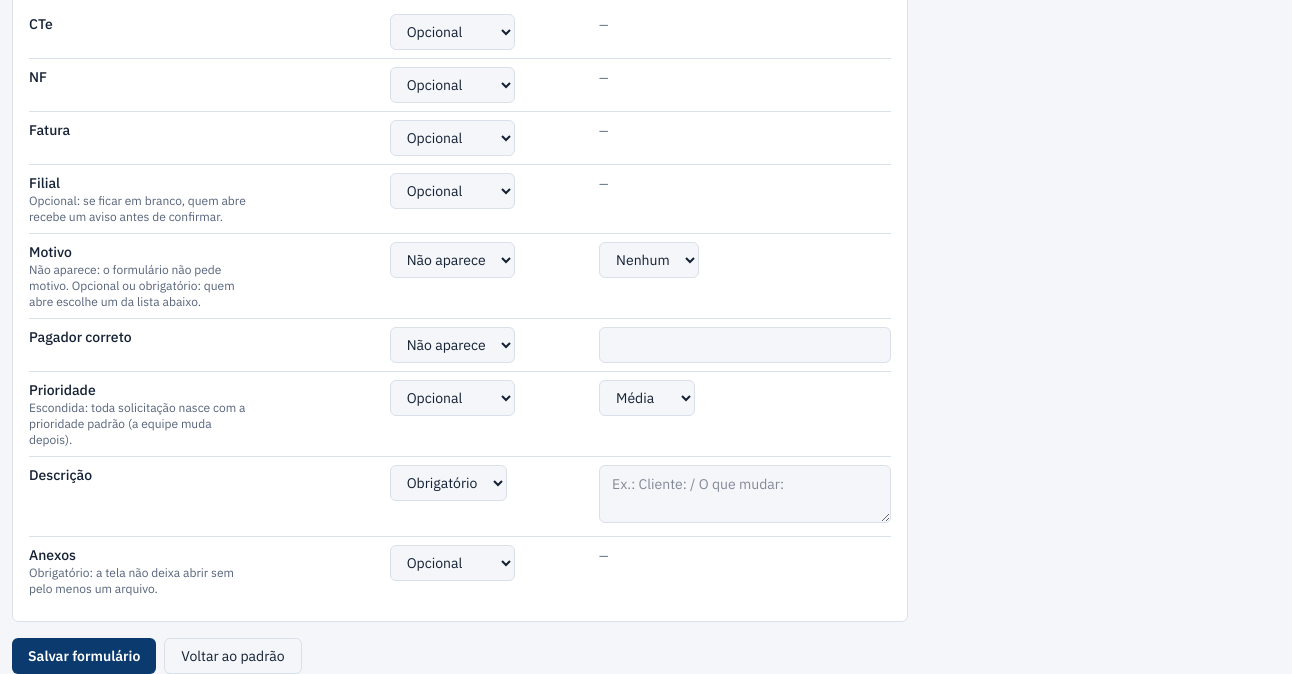
Test: Formulário › mostra o erro de quando a API recusa
(page scrolled)
Click the button "Salvar formulário". click: (84, 656)
box: [12, 638, 156, 673]
(page scrolled)
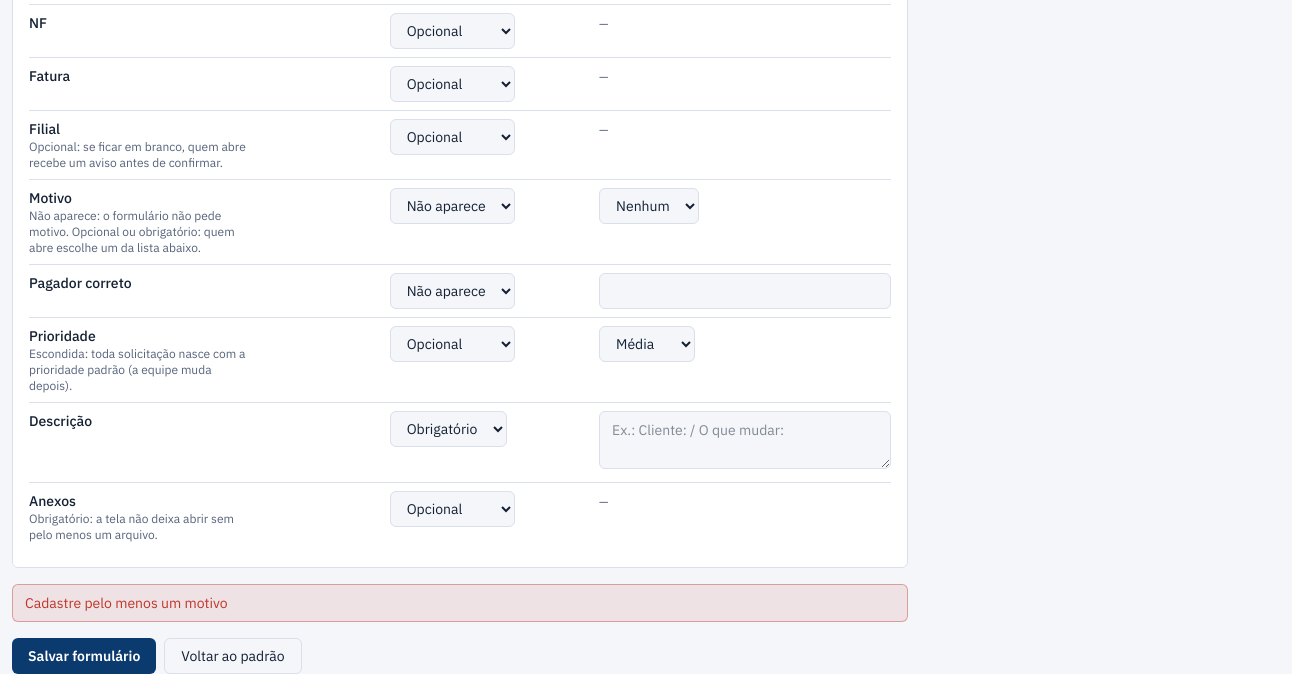
expect the message reads "Cadastre pelo menos um motivo": met, box [25, 594, 228, 612]
